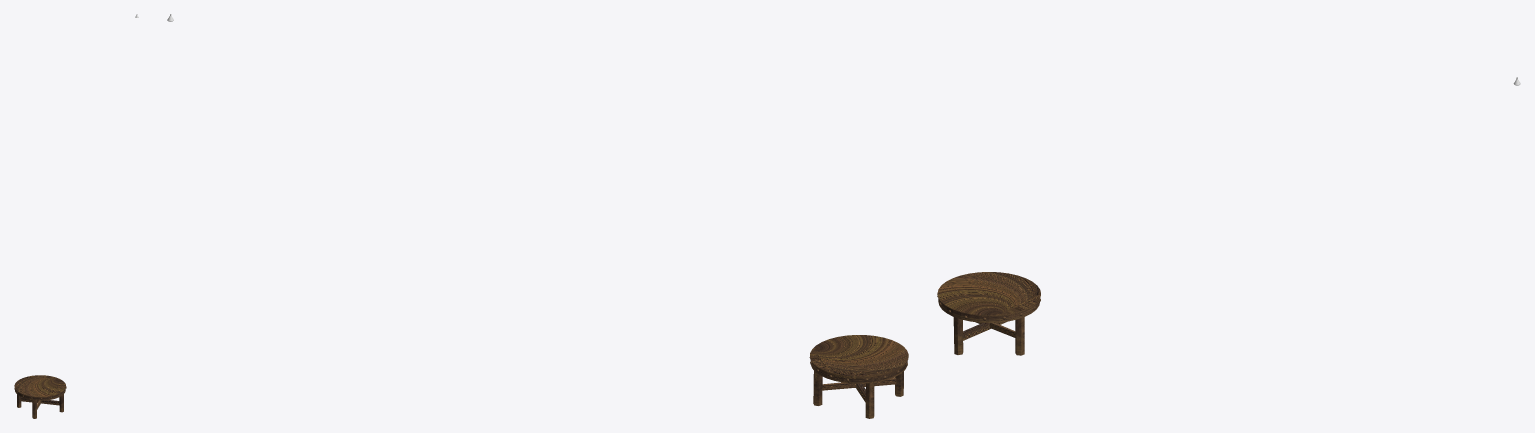
Rendered from Table.fbx.
3 renders of one model, left to right at view 1: azimuth 30°, elevation 25°; view 2: azimuth 150°, elevation 25°; view 3: azimuth 270°, elevation 25°, orthographic. The views are drawn at different scales.
Visible parts, largest first — view 1: Cylinder; view 2: Cylinder; view 3: Cylinder.
Part boxes in pixels (bbox=[...]): Cylinder: bbox=[14, 375, 66, 418]; Cylinder: bbox=[809, 335, 908, 418]; Cylinder: bbox=[937, 272, 1040, 355].
Bounding box in the file's own units: 994 × 914 × 994.
2 materials, 1 textured.
